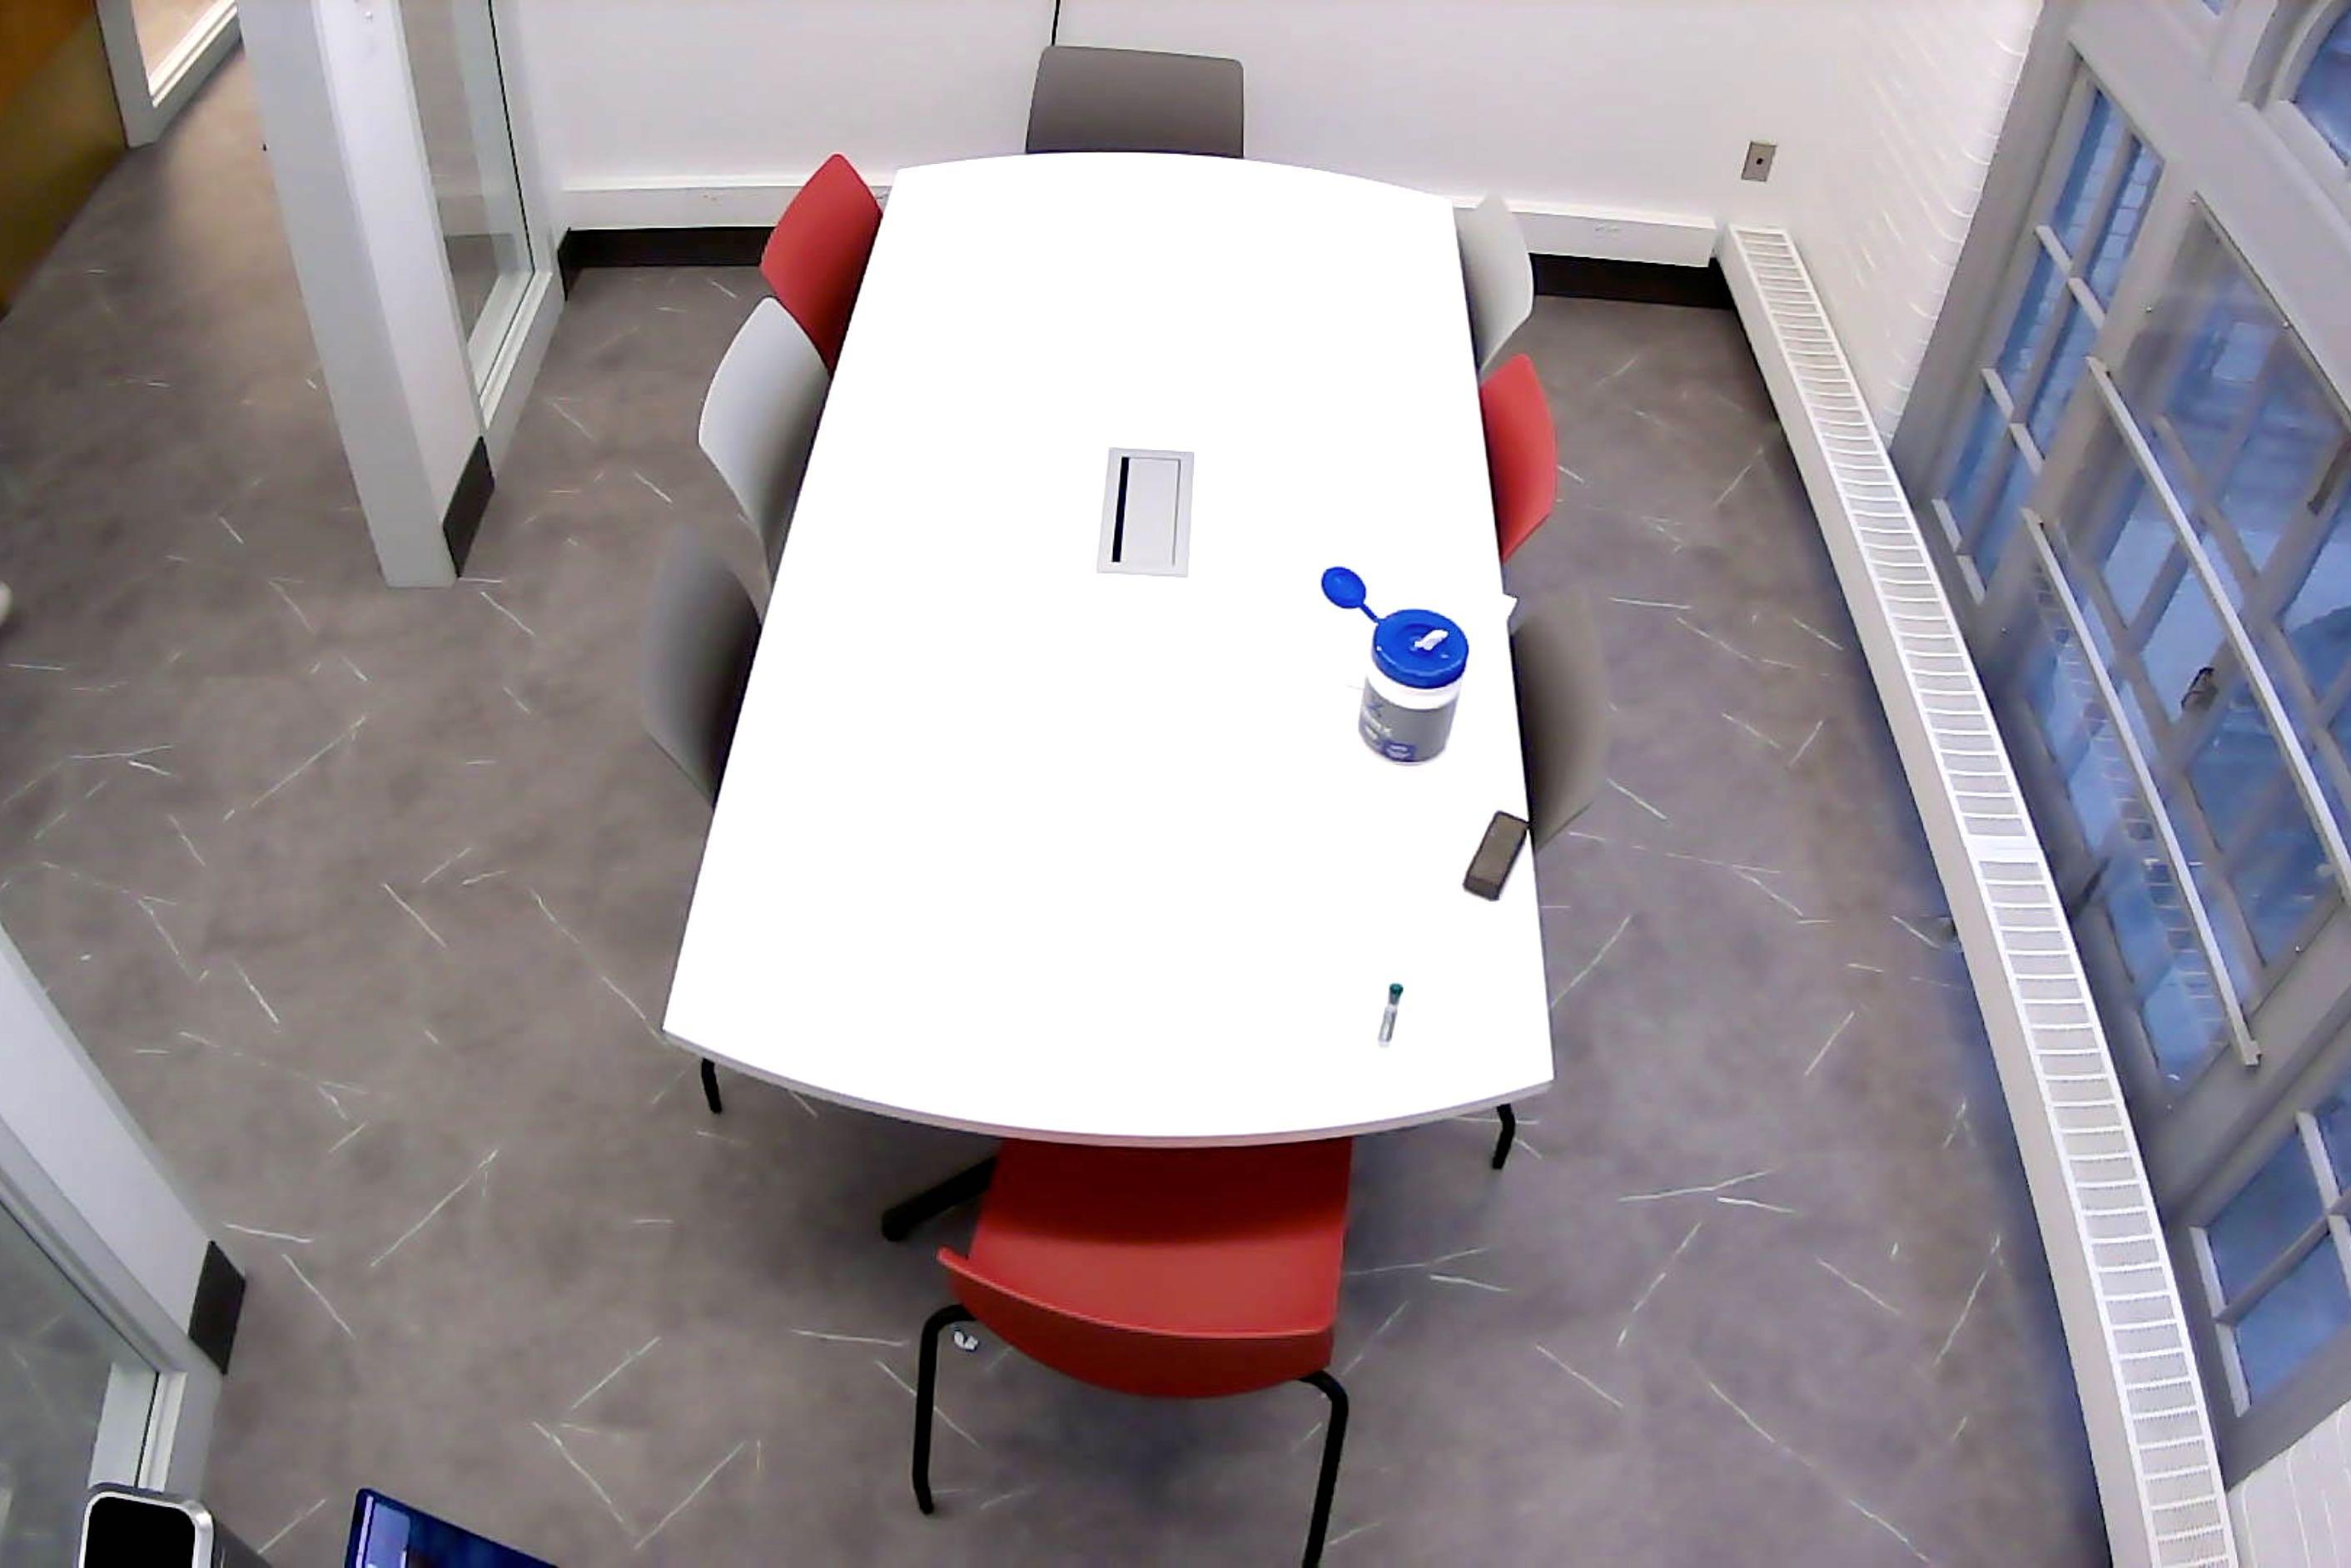Chair: (917, 1136, 1357, 1568), (642, 549, 775, 1134), (1495, 581, 1605, 1178), (698, 296, 846, 581), (1031, 44, 1252, 164), (765, 154, 889, 368), (1483, 355, 1563, 564), (1463, 191, 1537, 373)
Dining Table: (660, 147, 1556, 1248)
